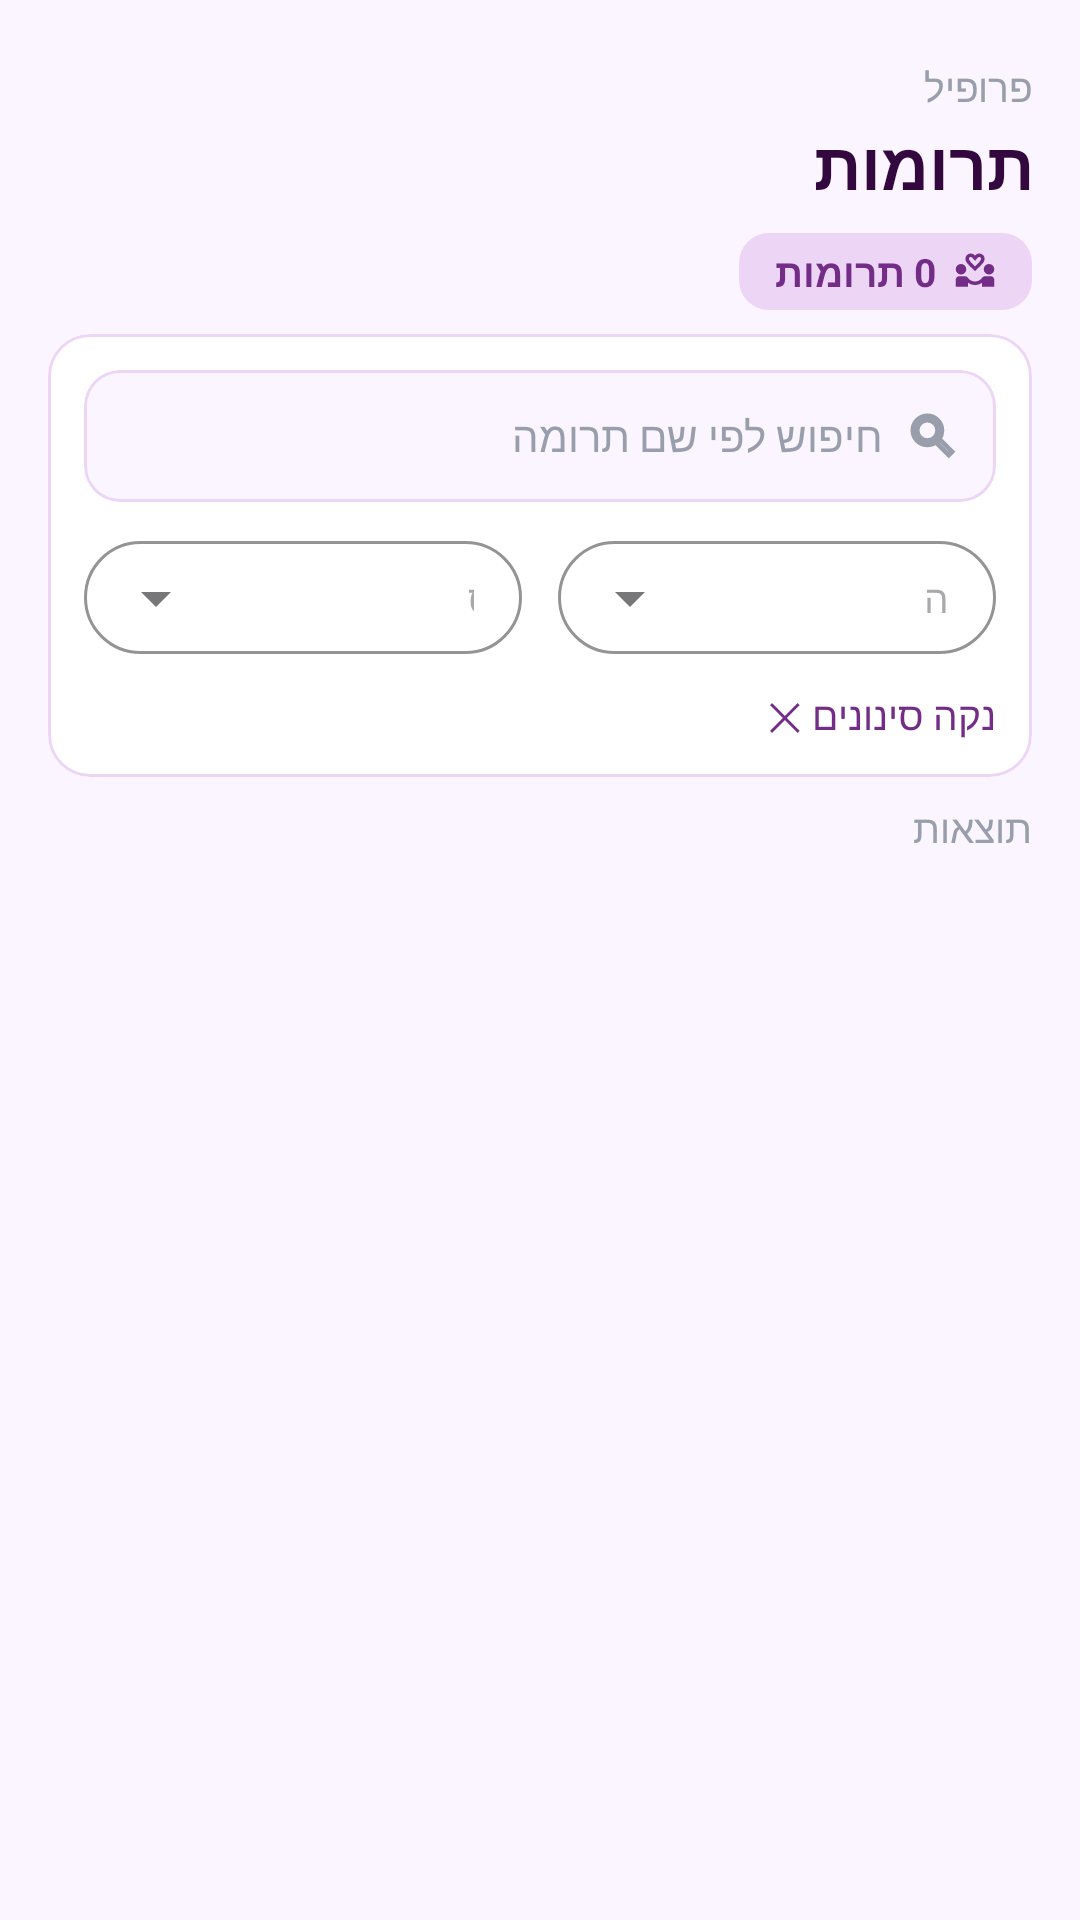

Named icons in this screenshot (1080 x 1920) and their centers, point (x, y):
giving heart: point (975, 270)
search: point (932, 435)
